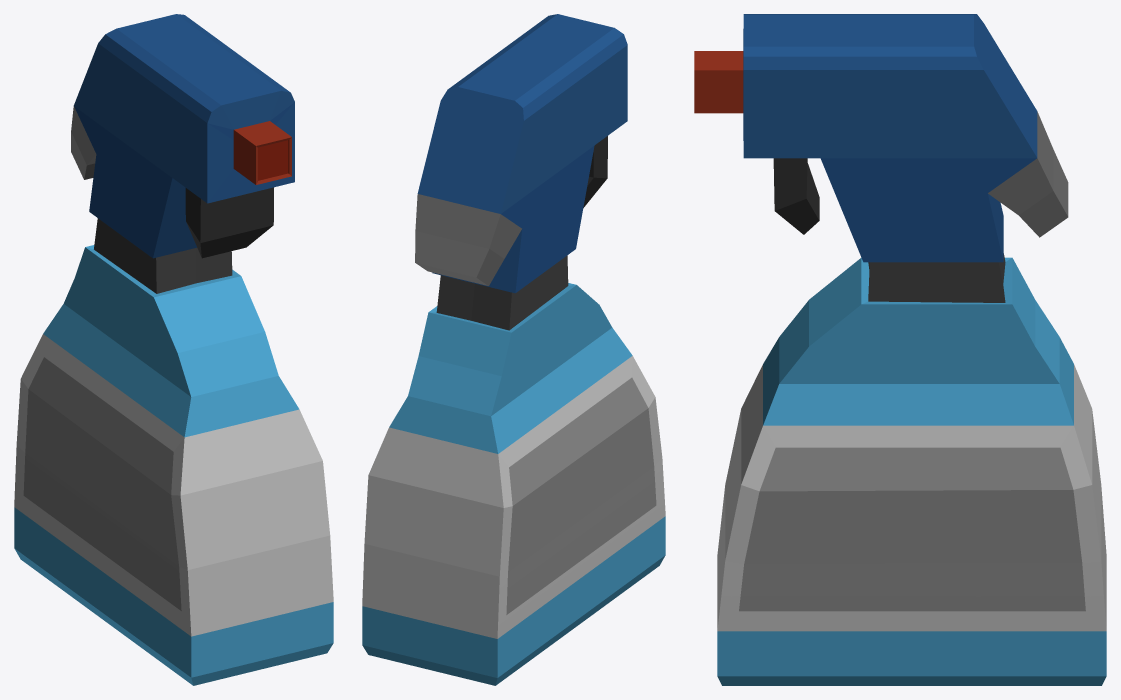
Rendered from Cleaner Spray #1.fbx.
3 views of the same model, side by side, from view 1: azimuth 30°, elevation 25°; view 2: azimuth 150°, elevation 25°; view 3: azimuth 270°, elevation 25° (orthographic). The views are drawn at different scales.
Visible parts, largest first — view 1: Cleaner Spray #1; view 2: Cleaner Spray #1; view 3: Cleaner Spray #1.
Boxes of the visible parts, x1=… form: Cleaner Spray #1: x1=14, y1=14, x2=333, y2=685; Cleaner Spray #1: x1=362, y1=14, x2=665, y2=685; Cleaner Spray #1: x1=694, y1=14, x2=1106, y2=685.
Bounding box in the file's own units: 10.44 × 39.3 × 23.5.
1 material, 1 textured.
